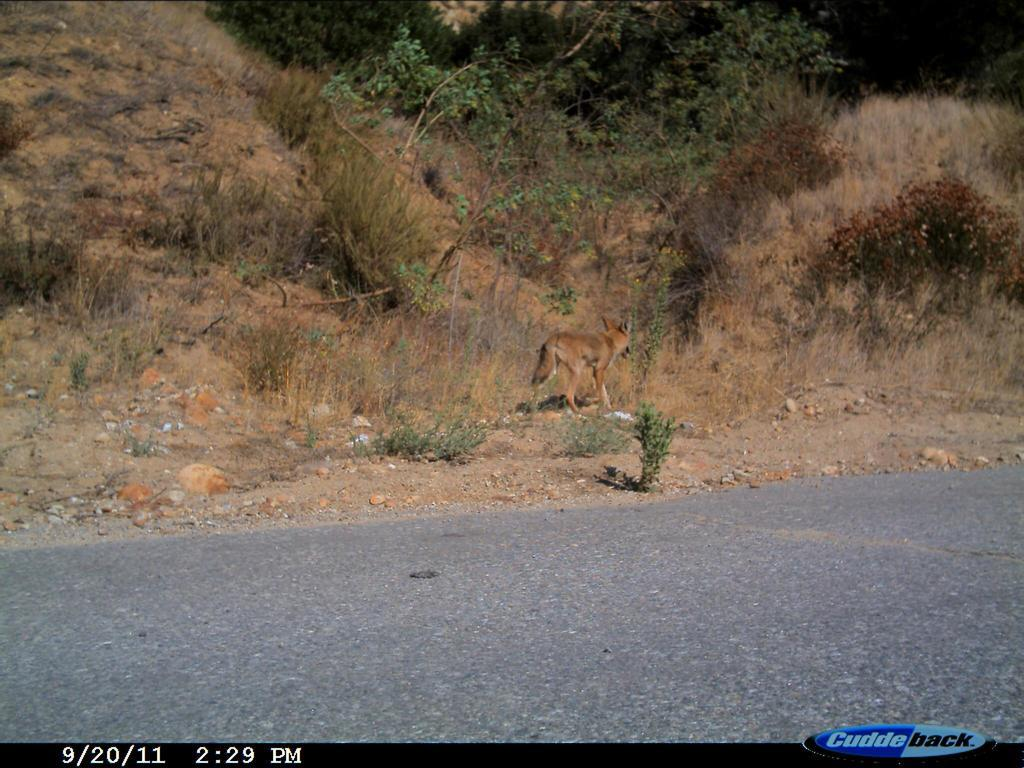coyote: (530, 315, 644, 419)
